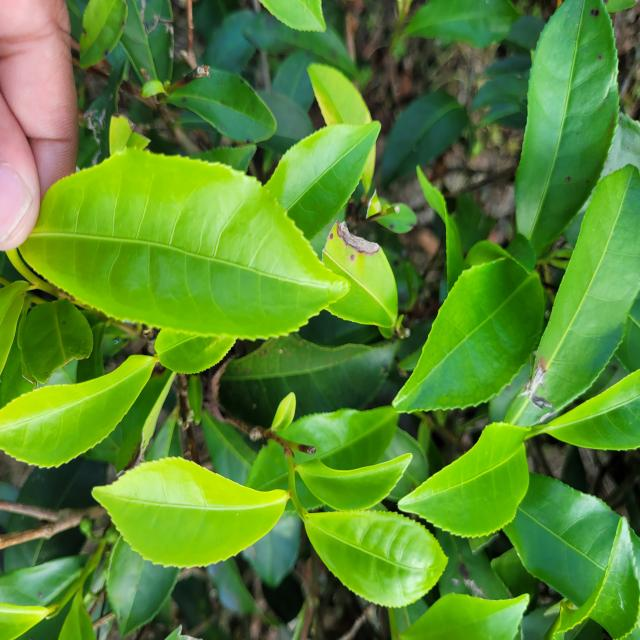Category B(2-4 days): (8, 132, 358, 356)
